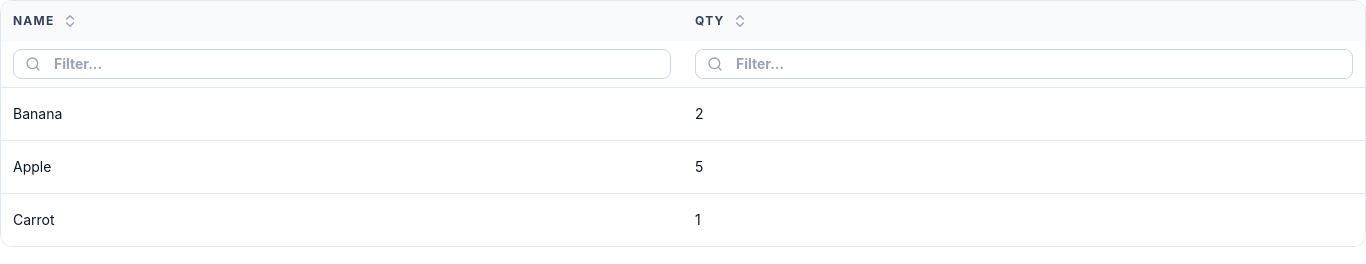
Test case: DataTable › filters rows from filter input
Type "app" into the 1st field with placeholder "Filter..." at (342, 64), box [13, 49, 671, 79]
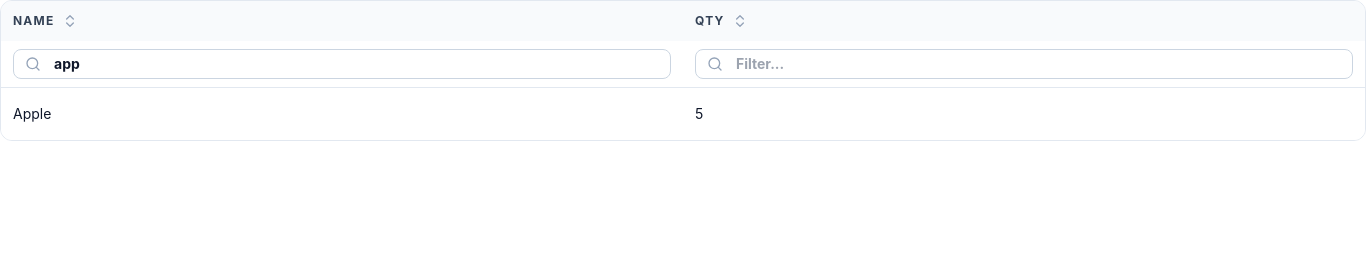
Check: the text "Apple" is shown, box [1, 88, 683, 140]
Check: the text "Banana" is gone
Check: the text "Carrot" is gone
